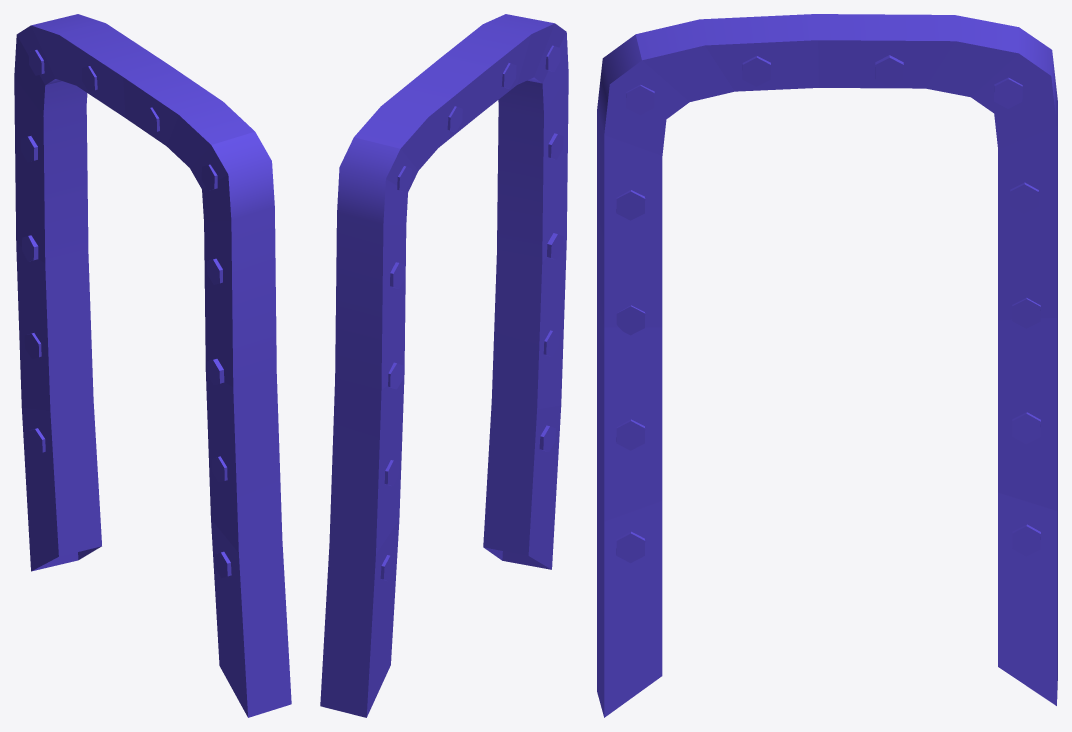
File: cadre_porte.FBX
3 views of the same model, side by side, from view 1: azimuth 30°, elevation 25°; view 2: azimuth 150°, elevation 25°; view 3: azimuth 270°, elevation 25° (orthographic). The views are drawn at different scales.
Visible parts, largest first — view 1: cadre_porte; view 2: cadre_porte; view 3: cadre_porte.
Boxes of the visible parts, x1=… form: cadre_porte: x1=14, y1=14, x2=291, y2=717; cadre_porte: x1=320, y1=14, x2=568, y2=717; cadre_porte: x1=597, y1=14, x2=1057, y2=717.
Bounding box in the file's own units: 33.34 × 228 × 144.
